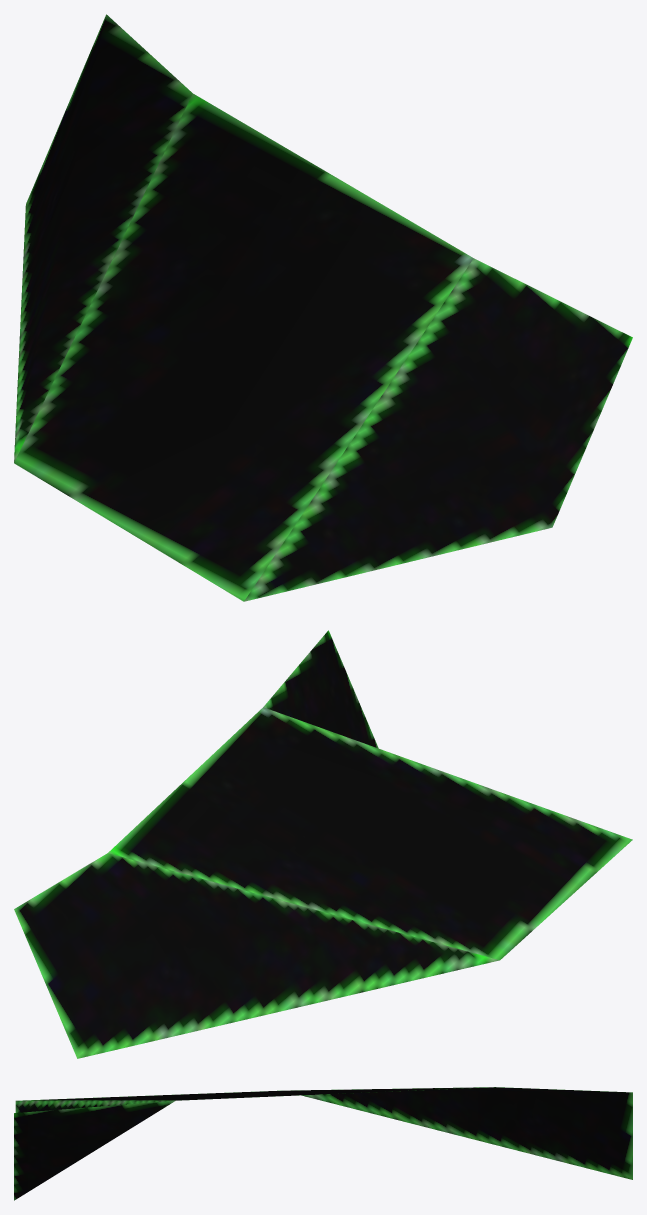
Rendered from Left.fbx.
3 views of the same model, one above another, from view 1: azimuth 30°, elevation 25°; view 2: azimuth 150°, elevation 25°; view 3: azimuth 270°, elevation 25° (orthographic). The views are drawn at different scales.
Parts seen in each view (by area): view 1: Left; view 2: Left; view 3: Left.
Part boxes in pixels (x1=…): Left: x1=14, y1=14, x2=632, y2=601; Left: x1=14, y1=630, x2=632, y2=1058; Left: x1=14, y1=1087, x2=632, y2=1200.
Size of the model in its own units: 25.67 by 10 by 49.2.
Materials: 1 (1 with a texture image).
